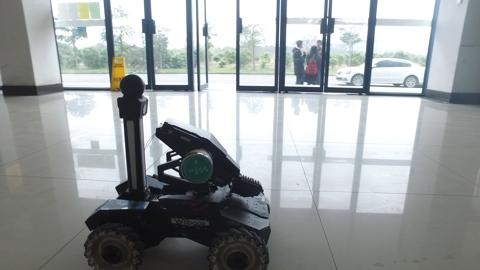chariot: (78, 72, 281, 270)
